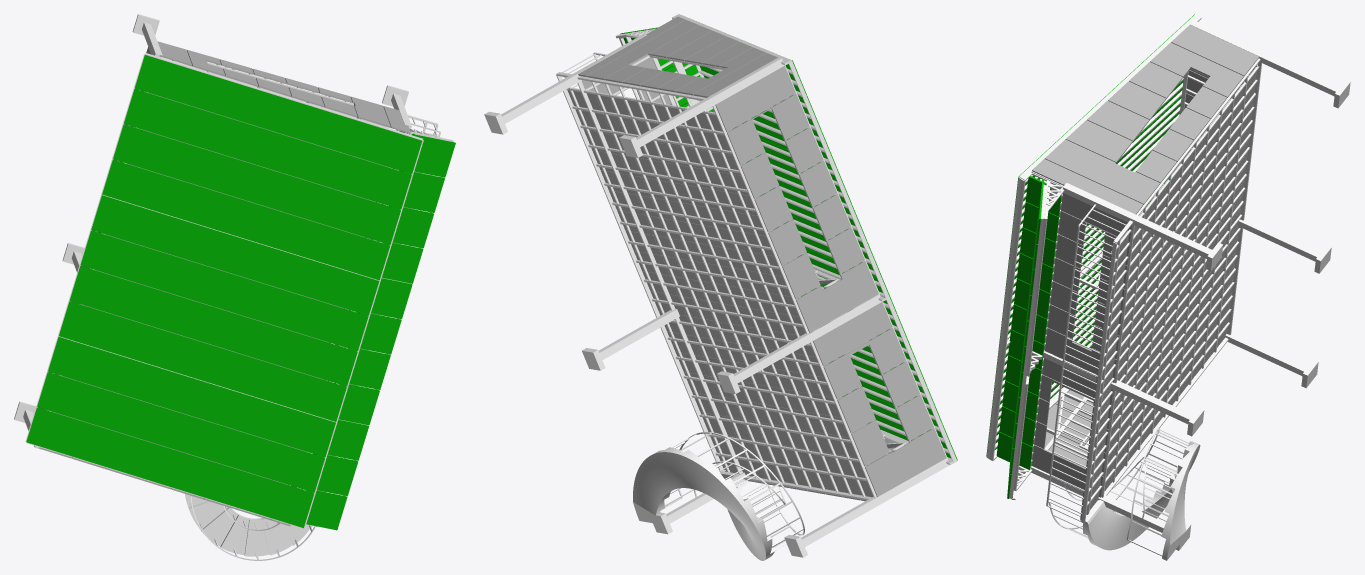
Rendered from romove.gltf.
3 renders of one model, left to right at view 1: azimuth 30°, elevation 25°; view 2: azimuth 150°, elevation 25°; view 3: azimuth 270°, elevation 25°, orthographic. The views are drawn at different scales.
Parts seen in each view (by area): view 1: romove; view 2: romove; view 3: romove.
Part boxes in pixels (x1,y1,x2,y2): romove: (14, 14, 455, 560); romove: (484, 14, 957, 560); romove: (986, 14, 1350, 560).
Size of the model in its own units: 12.61 by 14.58 by 9.68.
